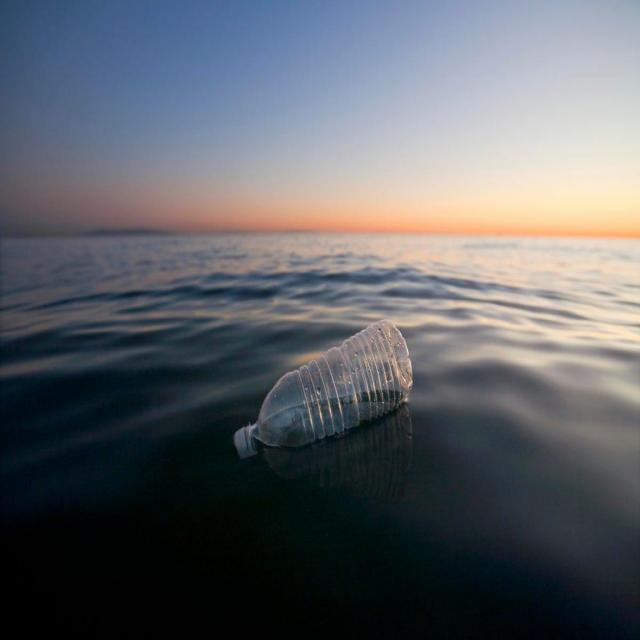bottle: (222, 298, 426, 486)
